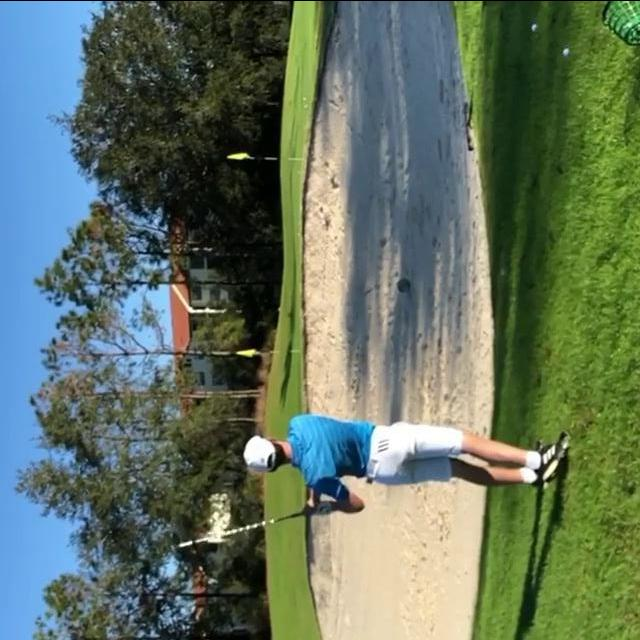golf club-handle: (170, 511, 305, 550)
golf club-head: (170, 531, 181, 550)
